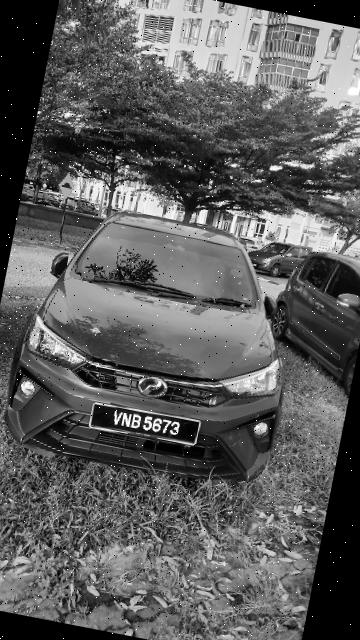License_Plate: (81, 396, 208, 454)
car: (1, 196, 308, 495)
